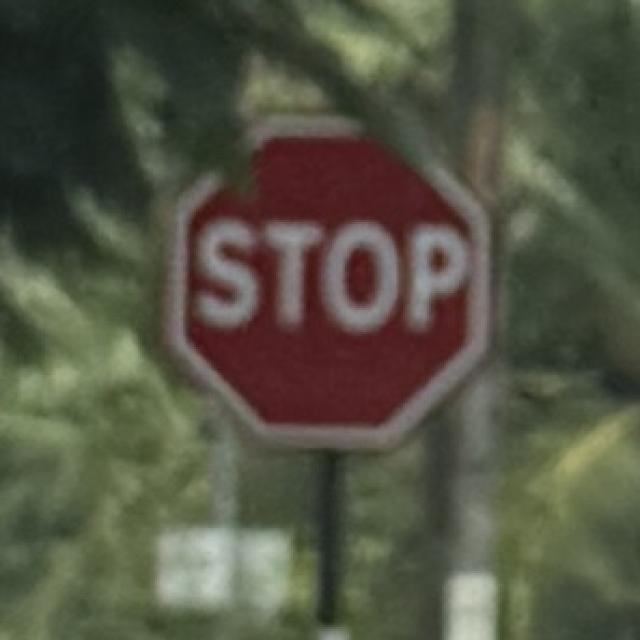STOP: (153, 100, 502, 460)
